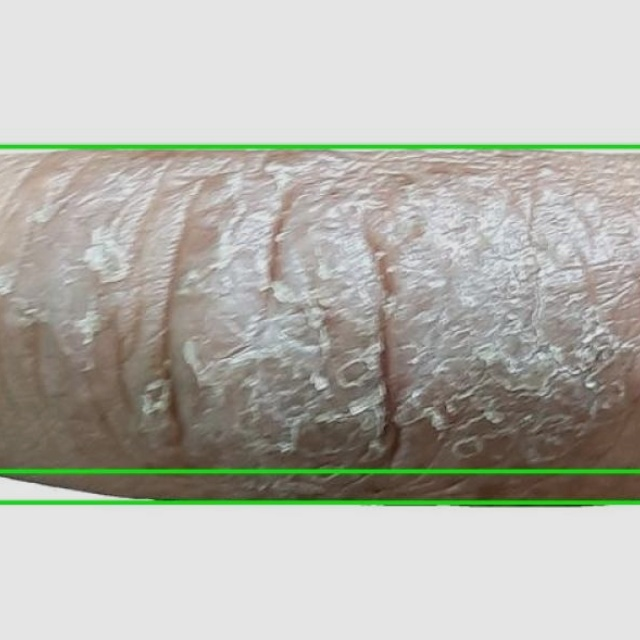Eczema: (0, 147, 639, 503), (0, 472, 639, 639)
